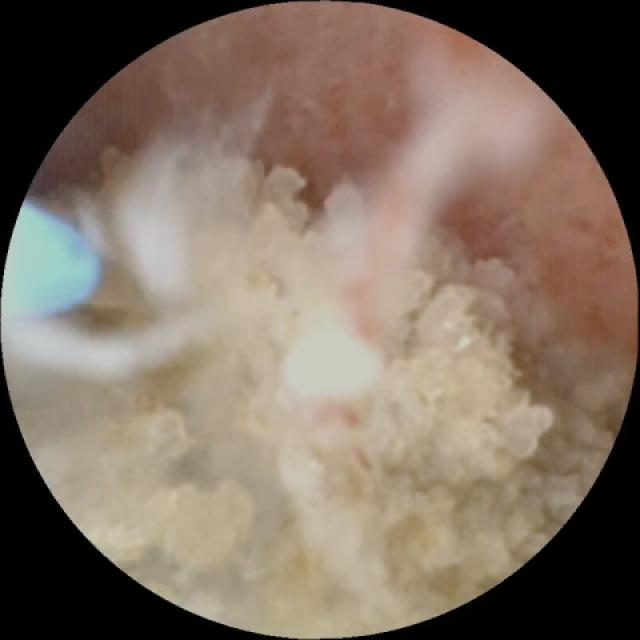fiber: (3, 212, 92, 312)
stone: (12, 144, 622, 626)
